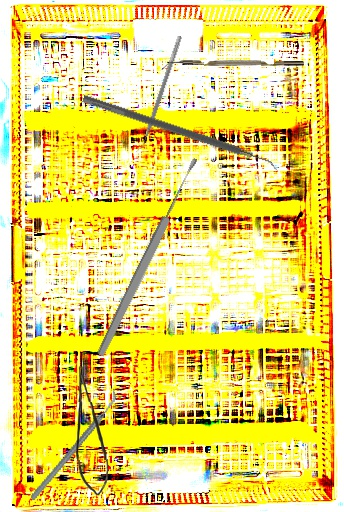Chopper: (4, 389, 144, 501), (160, 58, 305, 73)
Micro Scissor: (73, 365, 111, 497)
Spatula Surgical: (79, 94, 282, 175), (134, 33, 183, 155)
Surgical Spoon: (94, 156, 202, 358)
